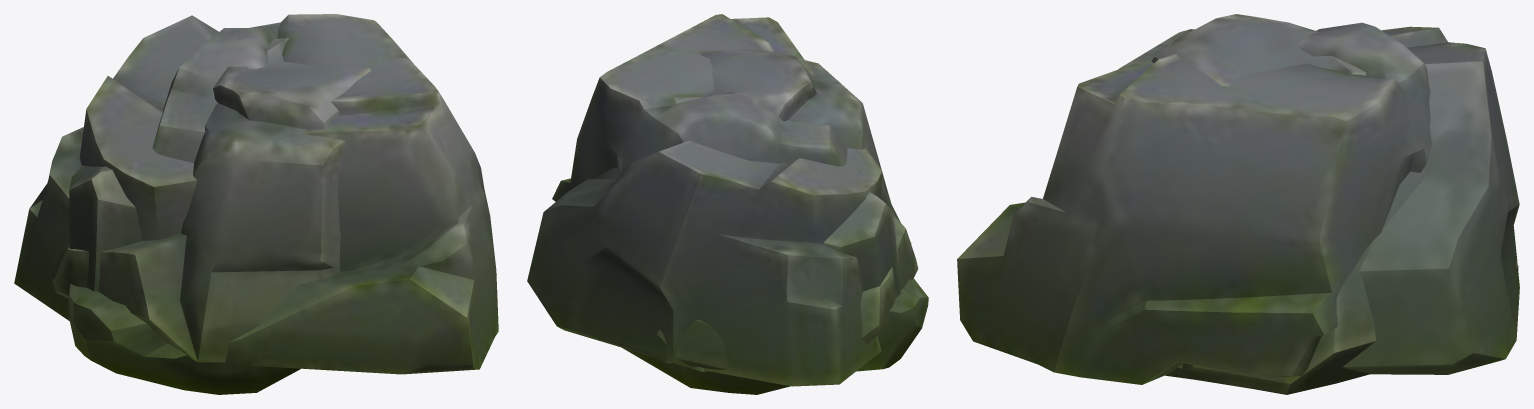
Rendered from river-stones.glb.
3 views of the same model, side by side, from view 1: azimuth 30°, elevation 25°; view 2: azimuth 150°, elevation 25°; view 3: azimuth 270°, elevation 25° (orthographic). The views are drawn at different scales.
Visible parts, largest first — view 1: q-rock-3, q-rock-1, q-rock-2; view 2: q-rock-2, q-rock-3, q-rock-1; view 3: q-rock-3, q-rock-2, q-rock-1.
Boxes of the visible parts, left/top/right/bottom form: q-rock-3: left=69, top=14, right=498, bottom=394; q-rock-1: left=52, top=38, right=370, bottom=362; q-rock-2: left=14, top=15, right=218, bottom=320; q-rock-2: left=527, top=140, right=882, bottom=386; q-rock-3: left=552, top=14, right=928, bottom=371; q-rock-1: left=573, top=50, right=918, bottom=394; q-rock-3: left=957, top=22, right=1431, bottom=384; q-rock-2: left=1343, top=26, right=1519, bottom=374; q-rock-1: left=1118, top=14, right=1518, bottom=394.
Bounding box in the file's own units: 3.42 × 2.32 × 3.74.
2 materials, 2 textured.
